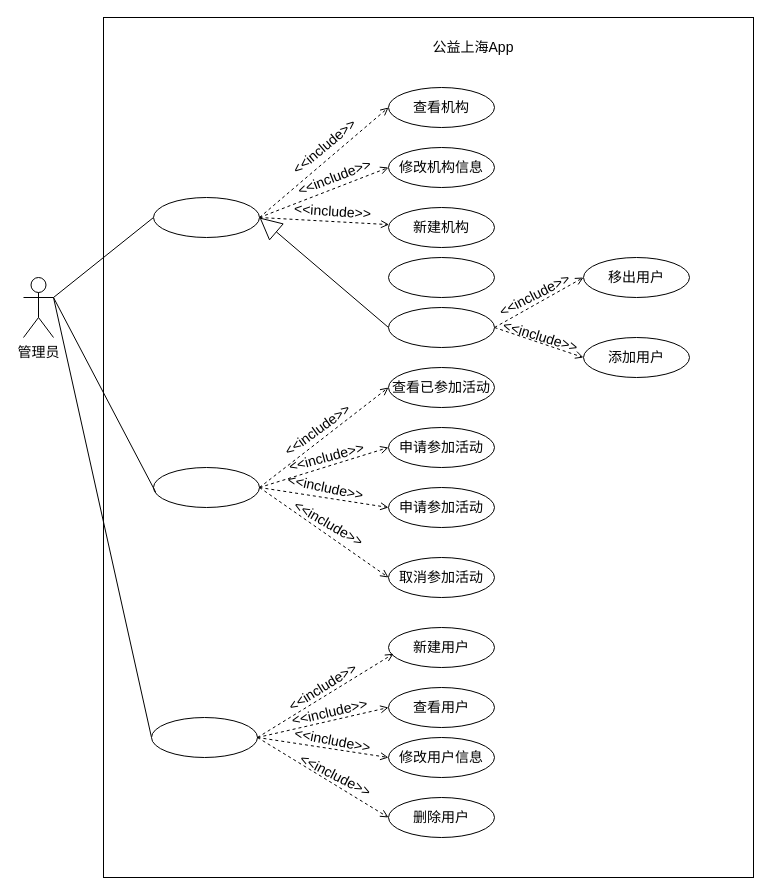
This 771x895 diagram has some shape labels left out. Each missing label, with the centre of its shape:
删除机构: the point at 441,277
机构成员管理: the point at 441,327
机构管理: the point at 206,217
活动管理: the point at 206,487
用户管理: the point at 204,737
